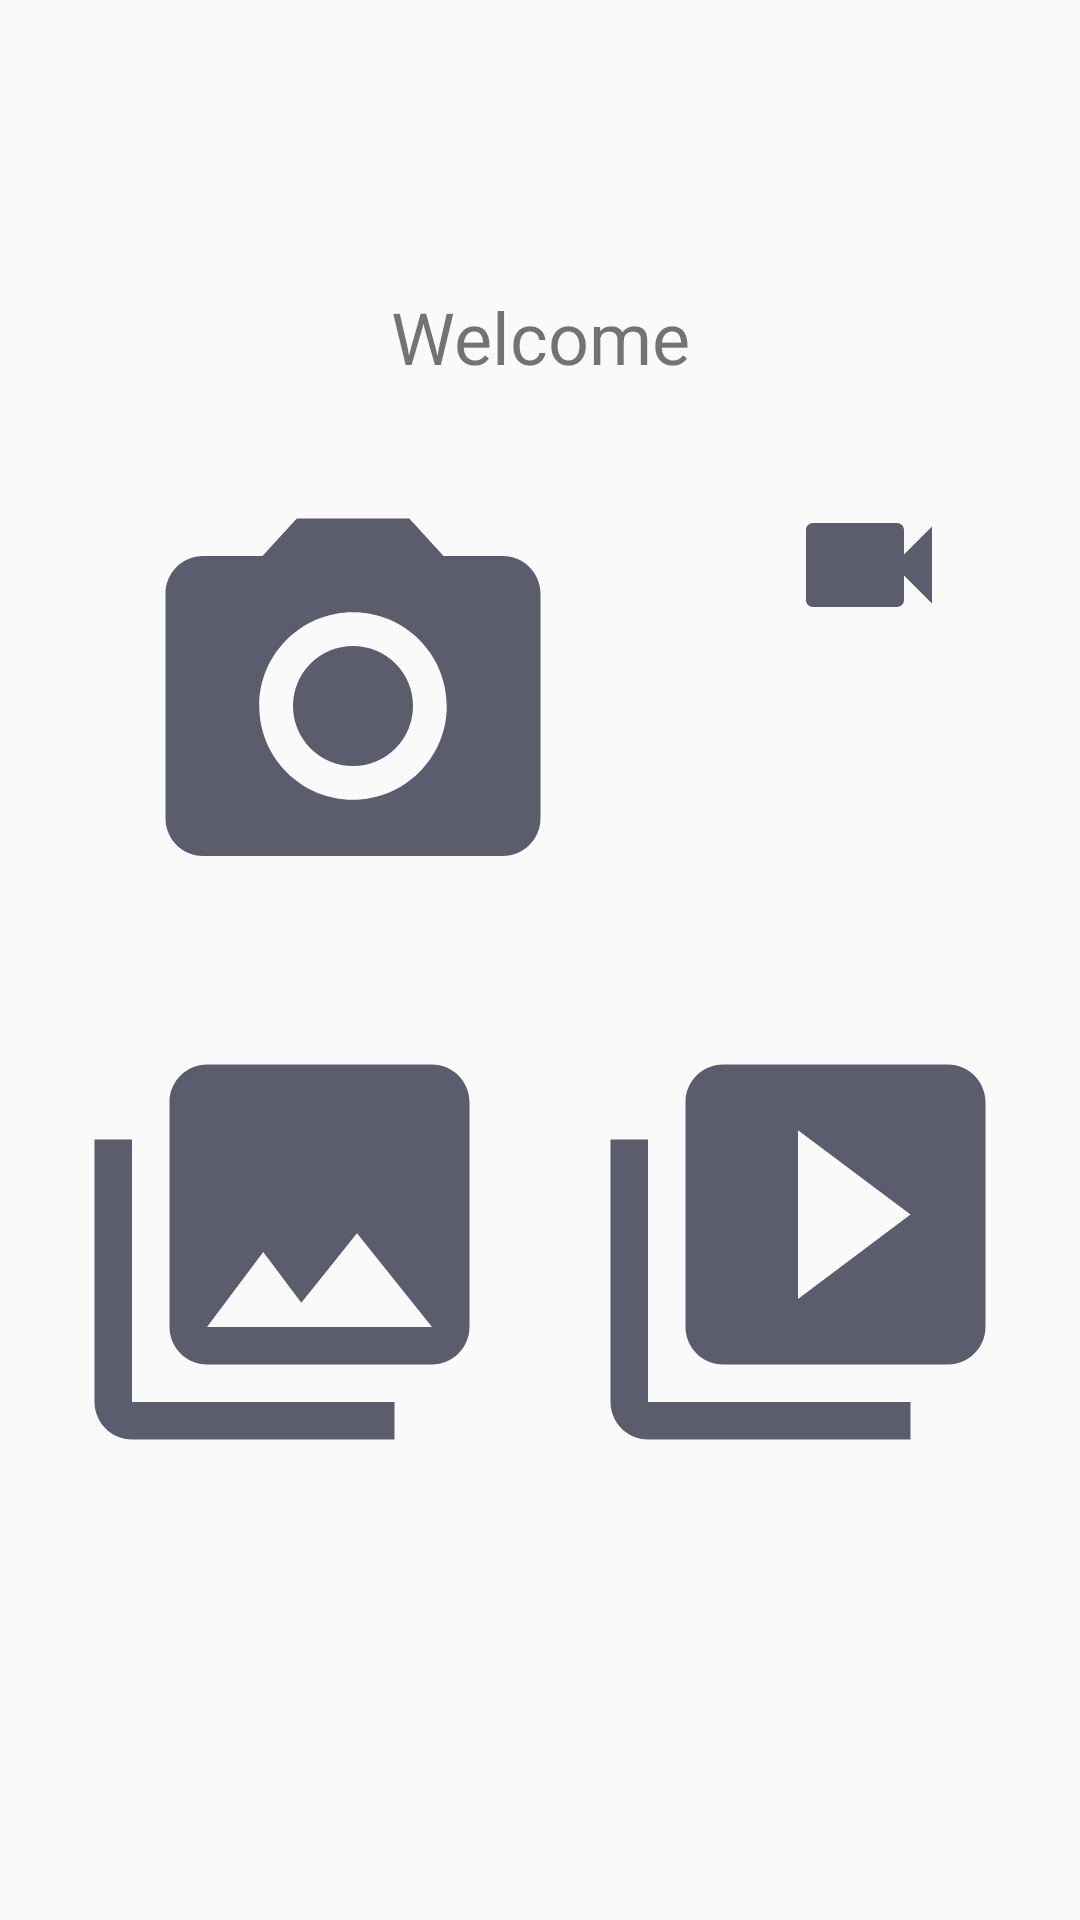

Screen size 1080px×1920px. Icon name, then its box in pixels as detection(x1, y1, x2, y2):
videocam: detection(806, 523, 932, 607)
